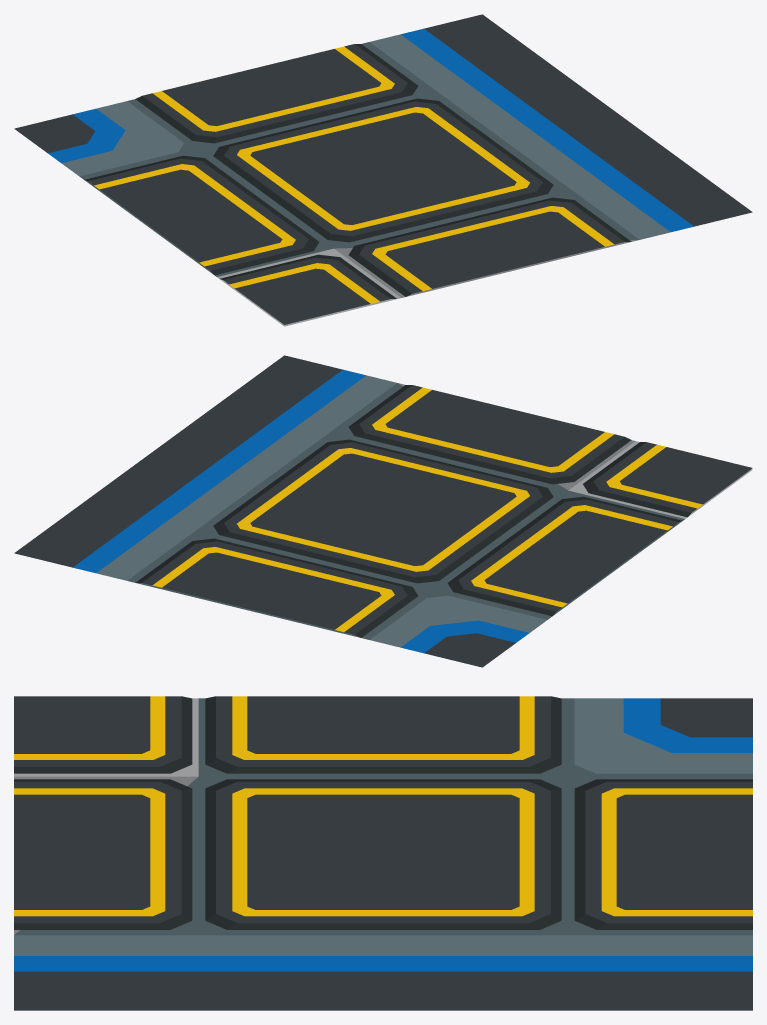
Rendered from Floor_type_C_036.fbx.
3 views of the same model, one above another, from view 1: azimuth 30°, elevation 25°; view 2: azimuth 150°, elevation 25°; view 3: azimuth 270°, elevation 25° (orthographic). The views are drawn at different scales.
Parts seen in each view (by area): view 1: Floor_type_C_036; view 2: Floor_type_C_036; view 3: Floor_type_C_036.
Boxes of the visible parts, x1=… form: Floor_type_C_036: x1=14, y1=14, x2=752, y2=326; Floor_type_C_036: x1=14, y1=355, x2=752, y2=667; Floor_type_C_036: x1=14, y1=696, x2=752, y2=1010.
Size of the model in its own units: 400 by 400 by 1.34.
